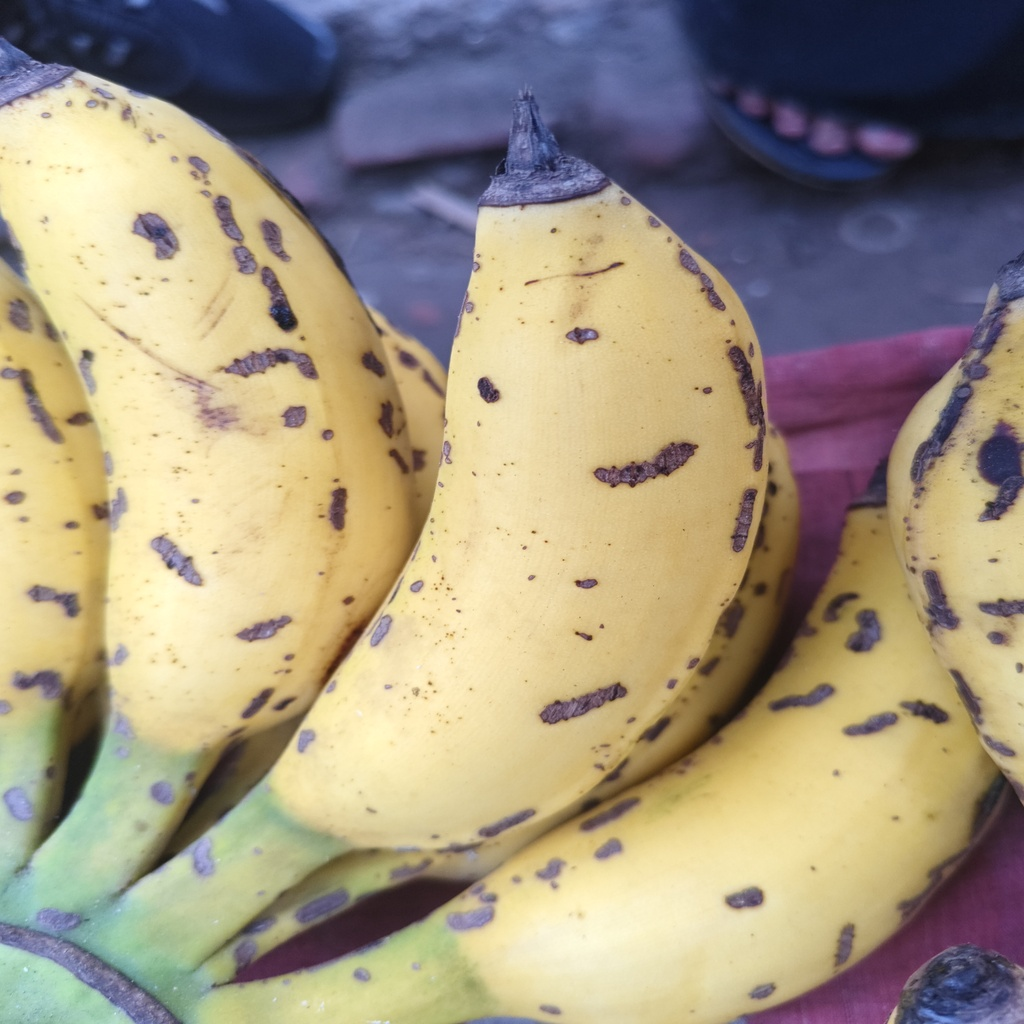unhealthy: (266, 160, 770, 856), (1, 74, 410, 767)
